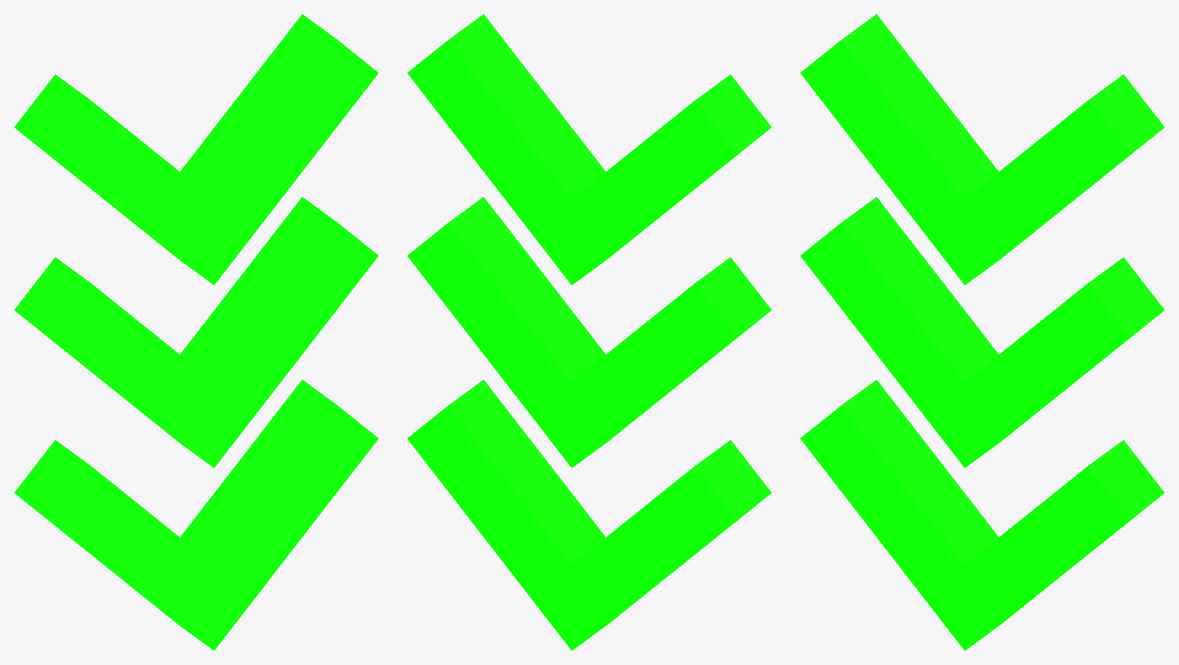
The model's file is indicatorArrow_green.glb.
3 renders of one model, left to right at view 1: azimuth 30°, elevation 25°; view 2: azimuth 150°, elevation 25°; view 3: azimuth 330°, elevation 25°, orthographic.
Parts seen in each view (by area): view 1: Plane; view 2: Plane; view 3: Plane.
Part boxes in pixels (bbox=[...]): Plane: bbox=[14, 14, 378, 650]; Plane: bbox=[407, 14, 771, 650]; Plane: bbox=[800, 14, 1164, 650].
Bounding box in the file's own units: 0.3394 × 0.5721 × 0.0632.
